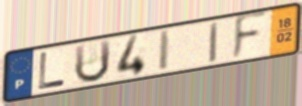4: (115, 33, 148, 79)
F: (230, 9, 270, 64)
I: (157, 28, 174, 73), (208, 20, 220, 65)
L: (36, 50, 67, 91)
U: (73, 38, 113, 85)
